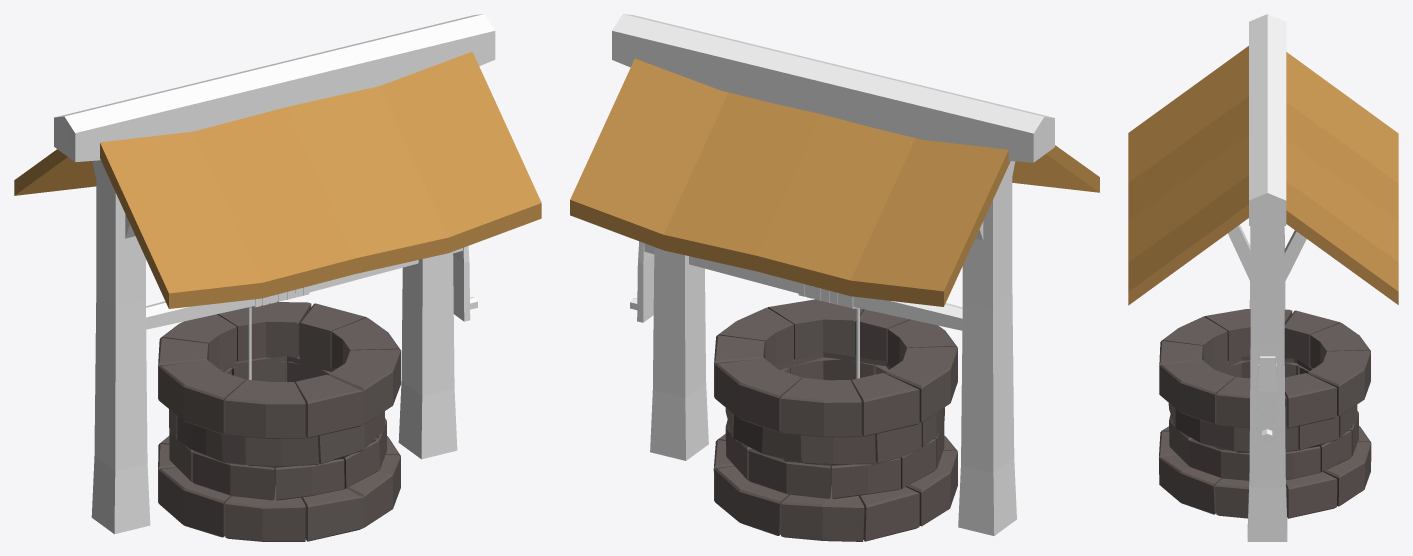
Rendered from PrairieWell.fbx.
3 views of the same model, side by side, from view 1: azimuth 30°, elevation 25°; view 2: azimuth 150°, elevation 25°; view 3: azimuth 270°, elevation 25° (orthographic). The views are drawn at different scales.
Visible parts, largest first — view 1: PrairieWell; view 2: PrairieWell; view 3: PrairieWell.
Boxes of the visible parts, <box> form: PrairieWell: <box>14,14,541,541</box>; PrairieWell: <box>570,14,1099,541</box>; PrairieWell: <box>1128,14,1398,541</box>.
Bounding box in the file's own units: 3.89 × 3.79 × 2.49.
